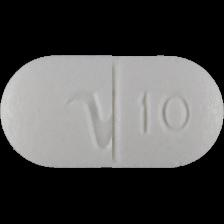68788-9527: (0, 0, 224, 224)
